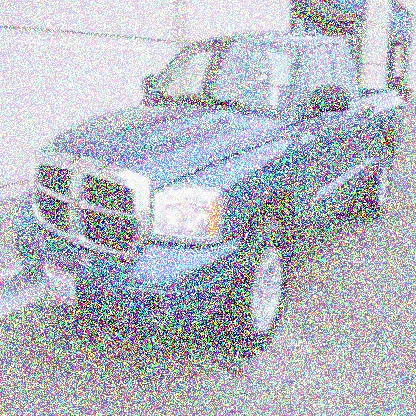Vehicle: (10, 30, 406, 363)
